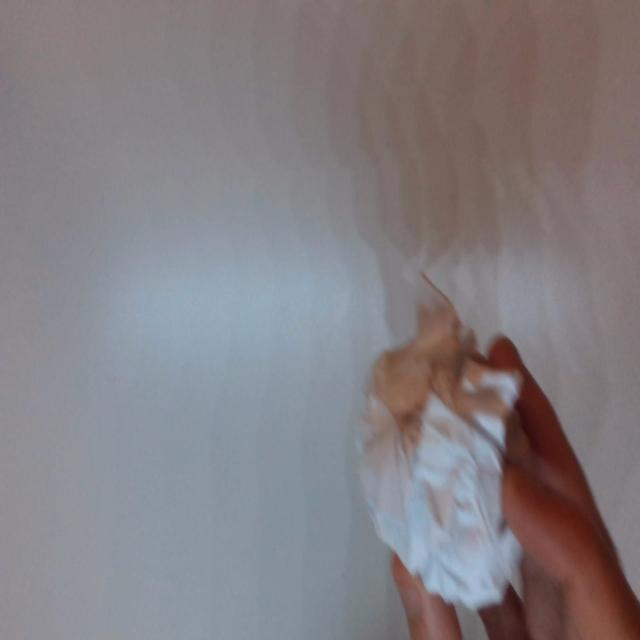Paper: (358, 271, 521, 613)
